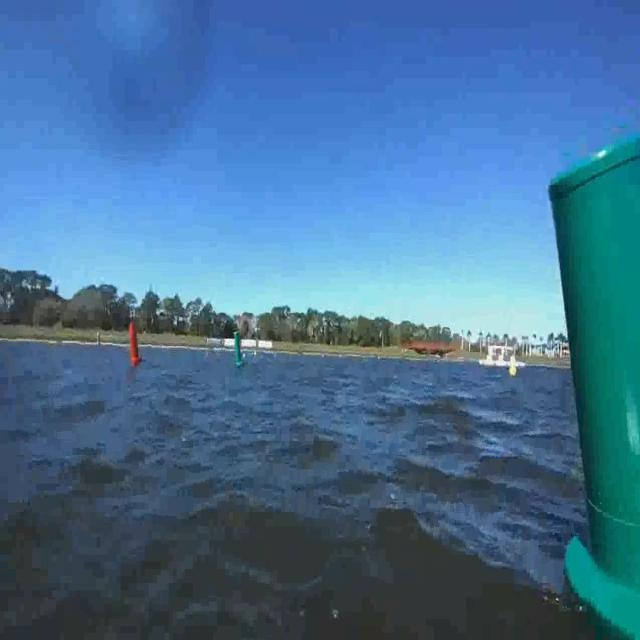green-column-buoy: (534, 112, 640, 640), (225, 328, 246, 372)
red-column-buoy: (126, 319, 142, 385)
